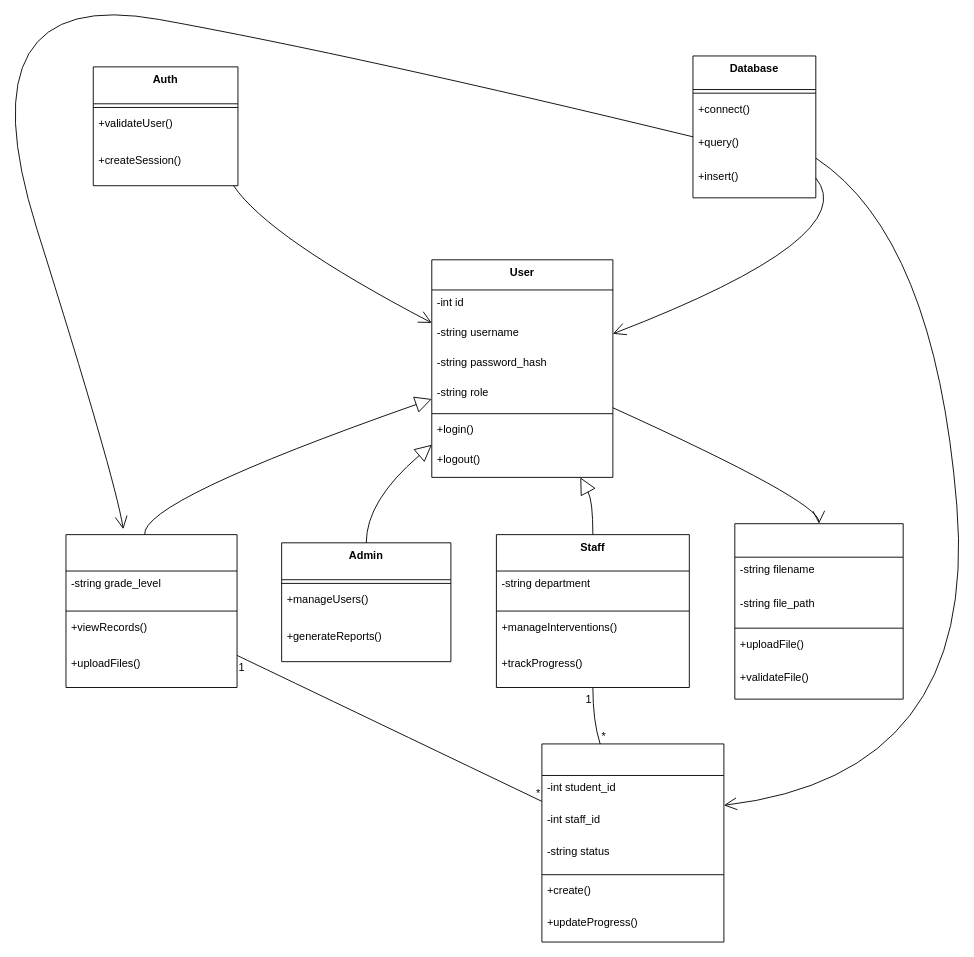
The diagram is 974 pixels wide and 957 high, and some of its shapes have lost their labels. The box of each missing label's shape, as (x1, y1, x2, y2) in pixels:
FileManager: (734, 523, 903, 699)
Intervention: (541, 743, 724, 942)
Student: (65, 534, 237, 688)
